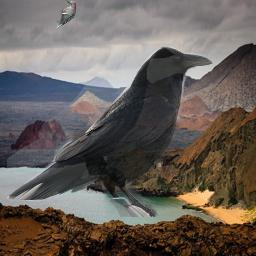Crow: (7, 46, 213, 217)
Woodpecker: (56, 0, 76, 28)
